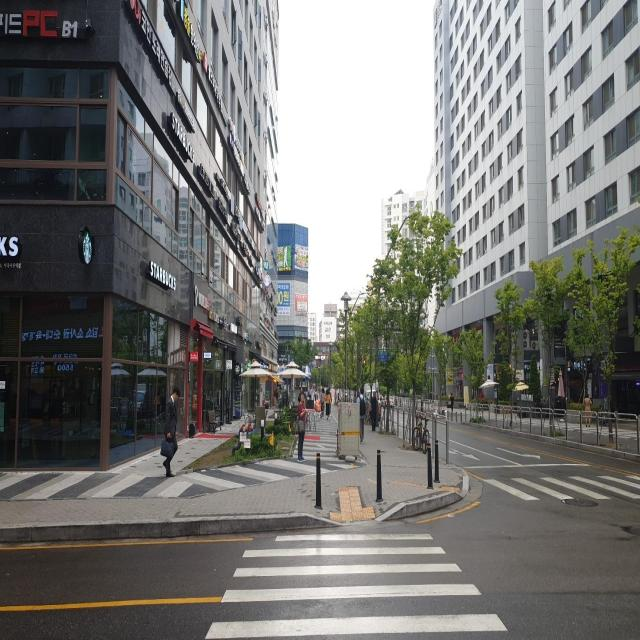횡단보도: (204, 531, 509, 640), (467, 452, 640, 509)
